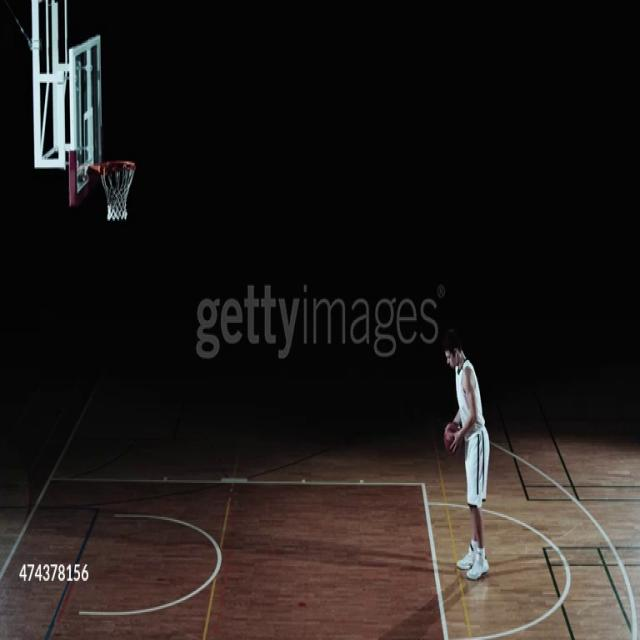ball: (443, 421, 462, 455)
